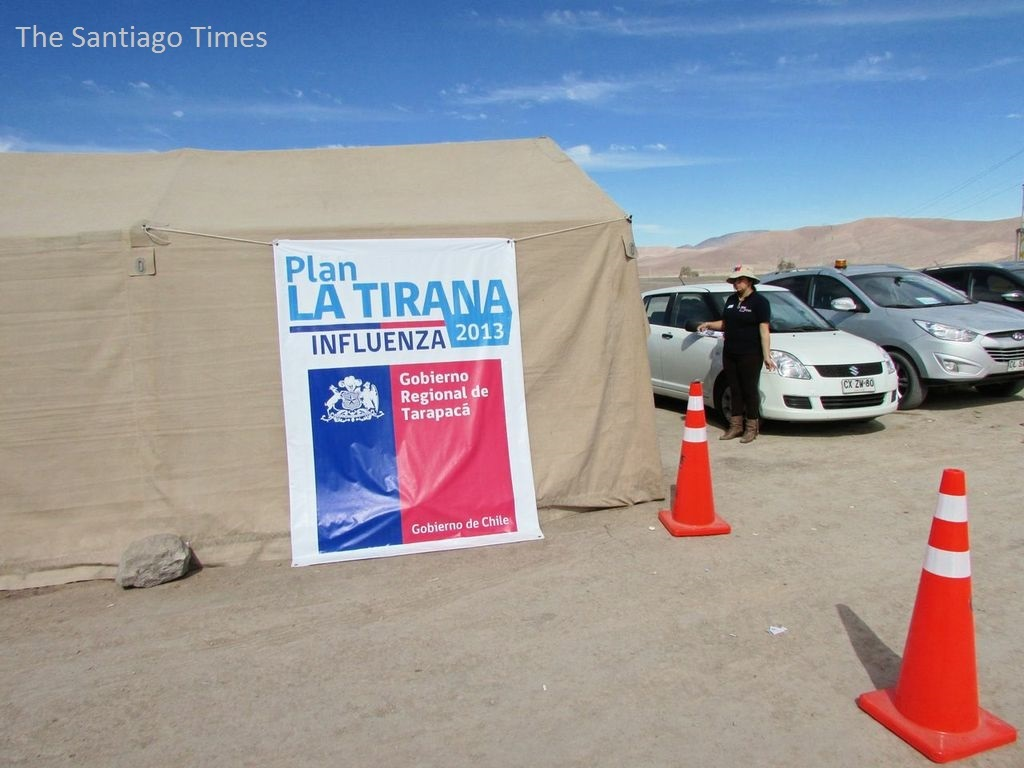Car: (757, 251, 1022, 409), (906, 256, 1022, 312)
